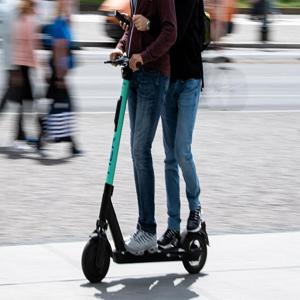human on a scooter: (80, 1, 210, 285)
